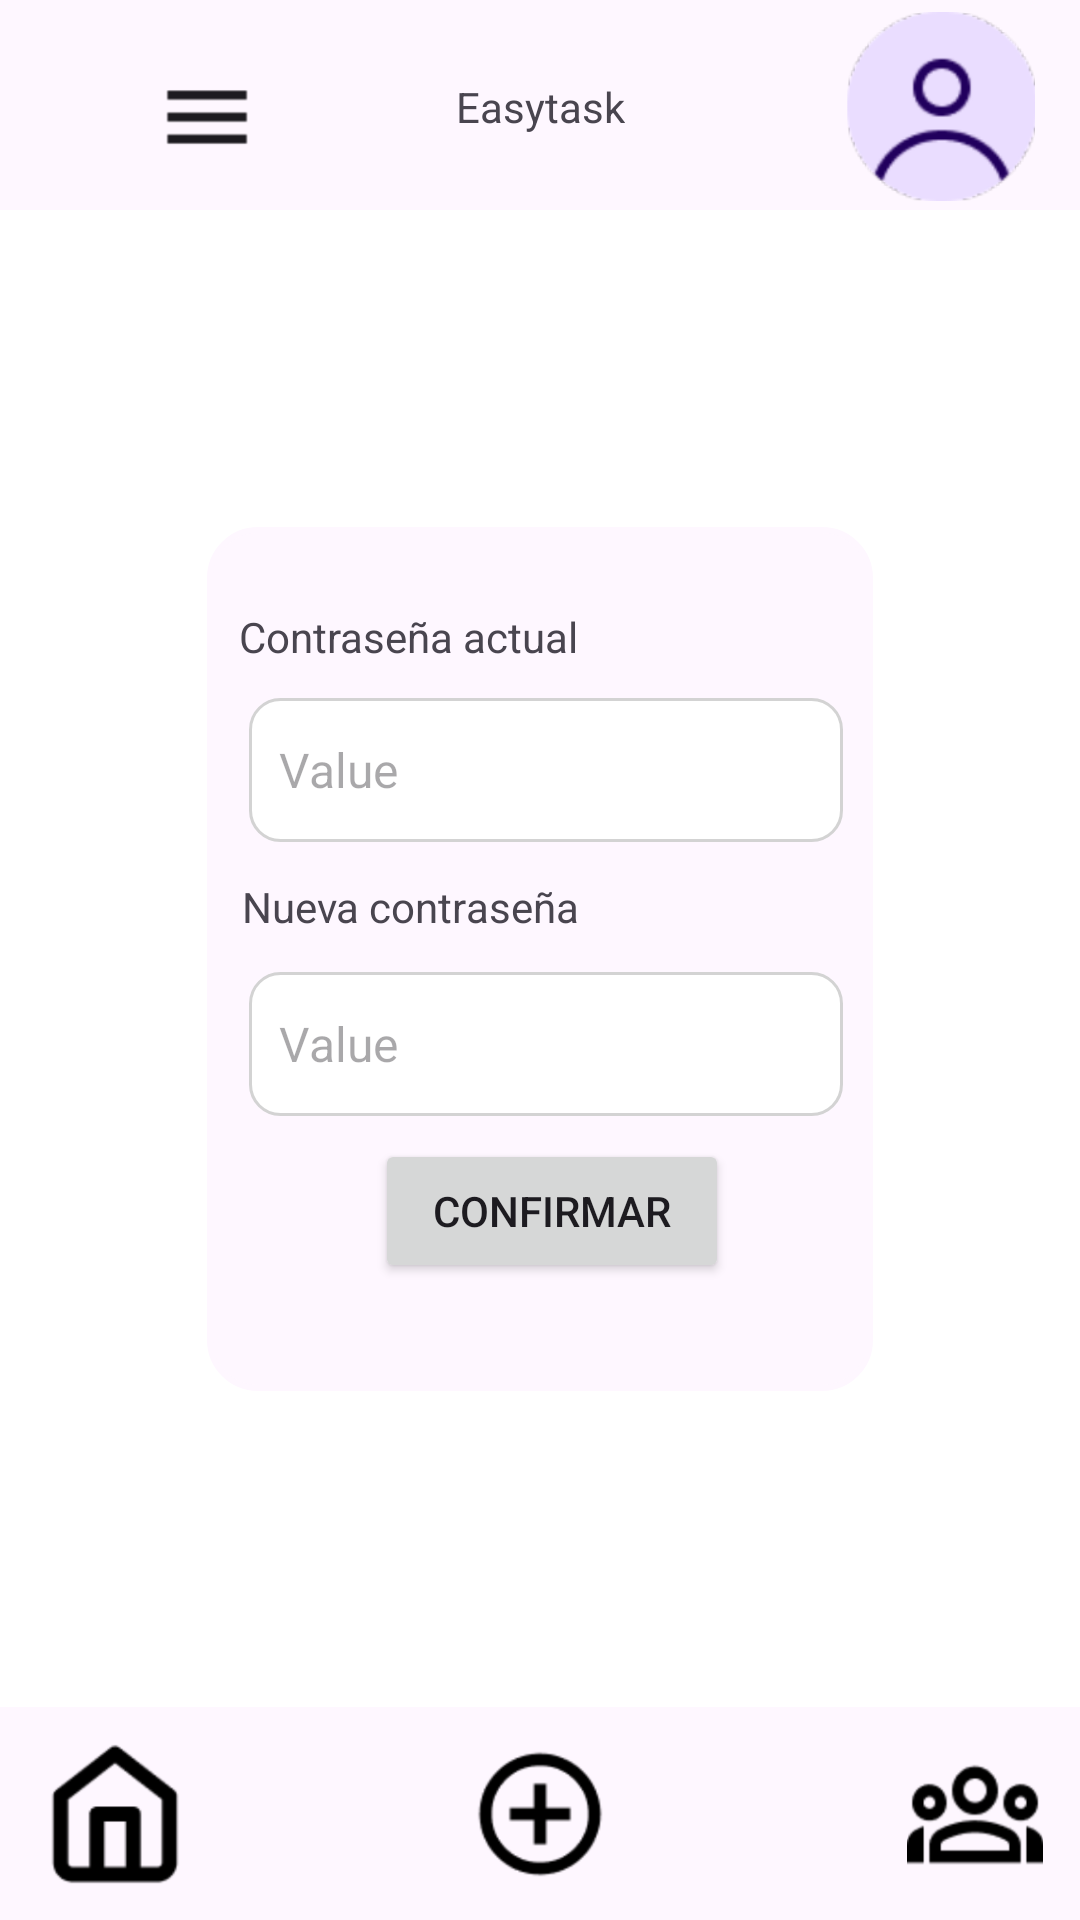

Locate icon controls on the screen. Image size 1080w x 1920h, boxes as {"left": x1, "top": y1, "right": x2, "bottom": y2}.
add: {"left": 478, "top": 1752, "right": 602, "bottom": 1876}
groups: {"left": 907, "top": 1765, "right": 1043, "bottom": 1864}
home: {"left": 52, "top": 1745, "right": 178, "bottom": 1883}
menu: {"left": 166, "top": 90, "right": 248, "bottom": 144}
profile: {"left": 848, "top": 12, "right": 1035, "bottom": 201}
